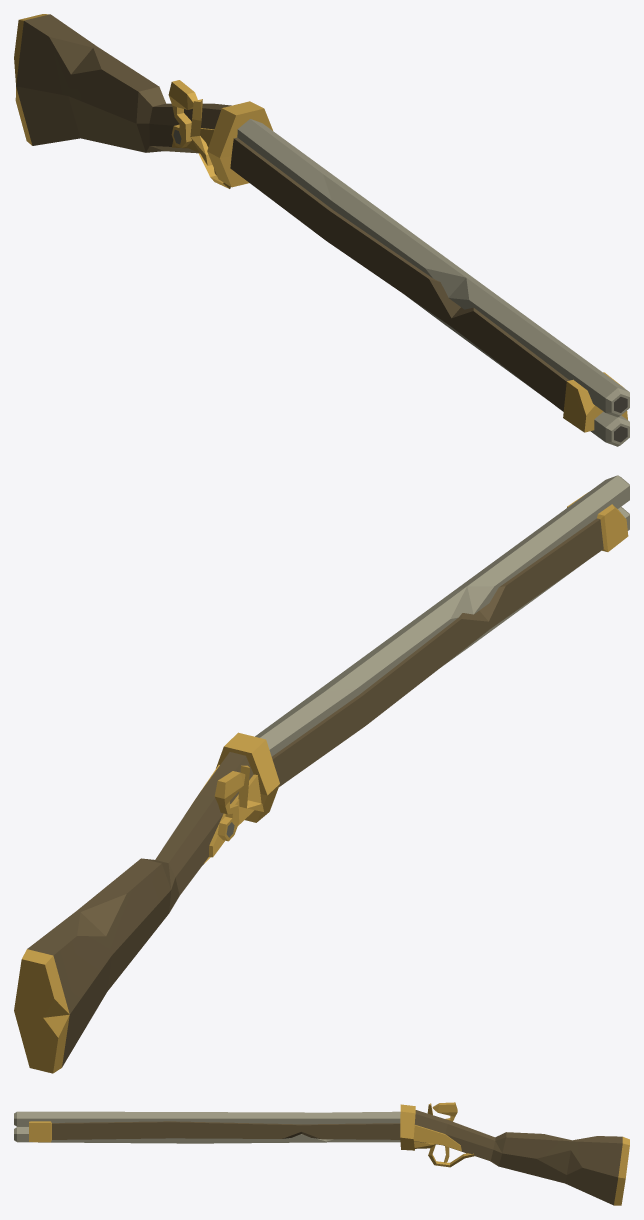
File: Rifle_4.fbx
3 views of the same model, one above another, from view 1: azimuth 30°, elevation 25°; view 2: azimuth 150°, elevation 25°; view 3: azimuth 270°, elevation 25° (orthographic). The views are drawn at different scales.
Parts seen in each view (by area): view 1: Rifle_4; view 2: Rifle_4; view 3: Rifle_4.
Part boxes in pixels (x1,y1,x2,y2): Rifle_4: [14, 14, 629, 446]; Rifle_4: [14, 475, 629, 1073]; Rifle_4: [14, 1102, 629, 1205].
Size of the model in its own units: 7.62 by 22.55 by 133.
